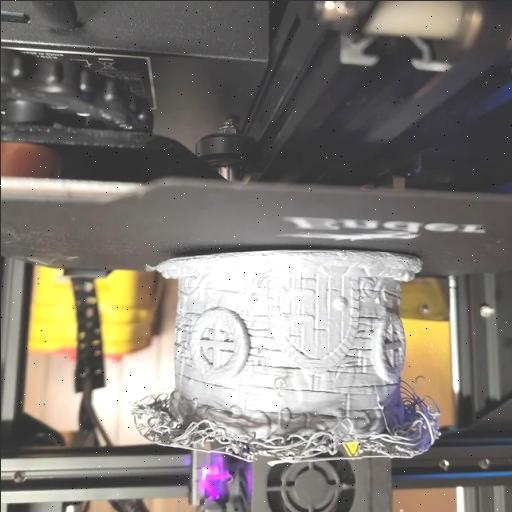spaghetti: (138, 421, 433, 455)
